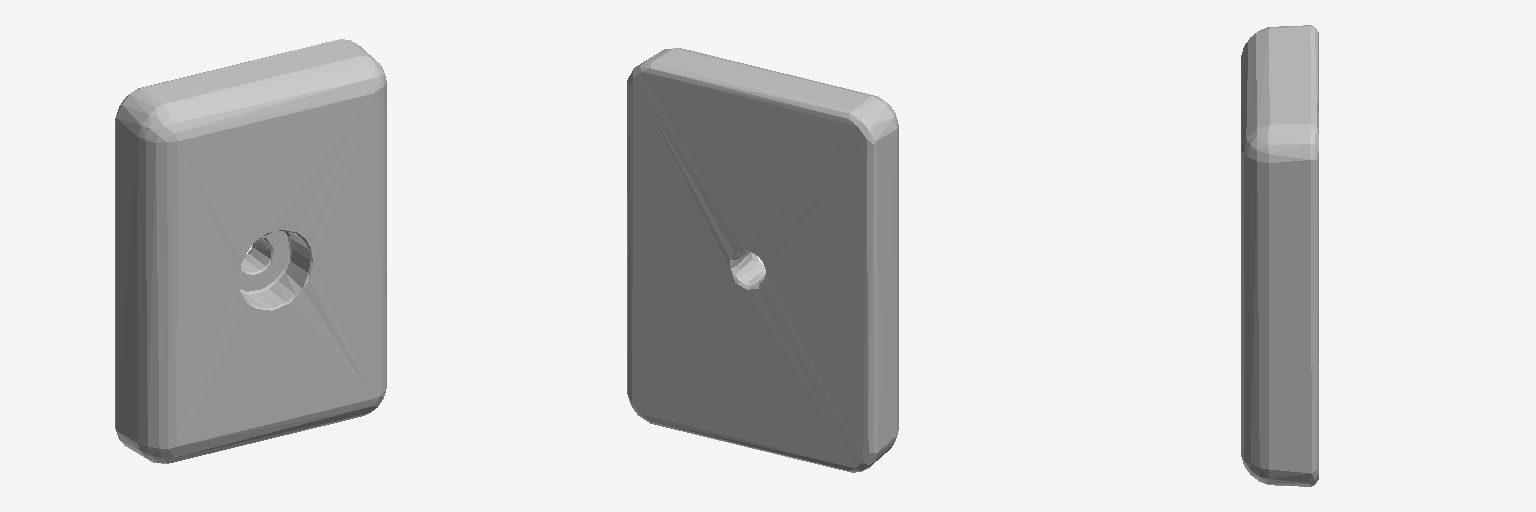
Rendered from weight_center3_vis.obj.
The picture shows the model from 3 angles: view 1: azimuth 30°, elevation 25°; view 2: azimuth 150°, elevation 25°; view 3: azimuth 270°, elevation 25°; orthographic projection.
Parts seen in each view (by area): view 1: Weight_center3_vis; view 2: Weight_center3_vis; view 3: Weight_center3_vis.
Part boxes in pixels (x1,y1,x2,y2): Weight_center3_vis: (115, 39, 386, 463); Weight_center3_vis: (627, 48, 898, 472); Weight_center3_vis: (1241, 25, 1318, 486).
Bounding box in the file's own units: 0.0415 × 0.0574 × 0.0112.